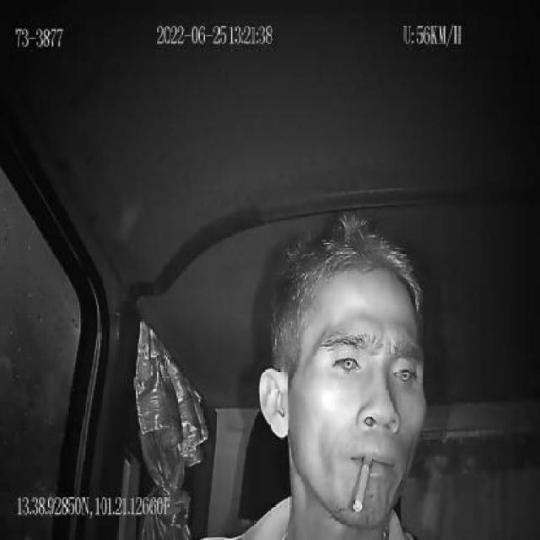smoking: (352, 454, 372, 512)
